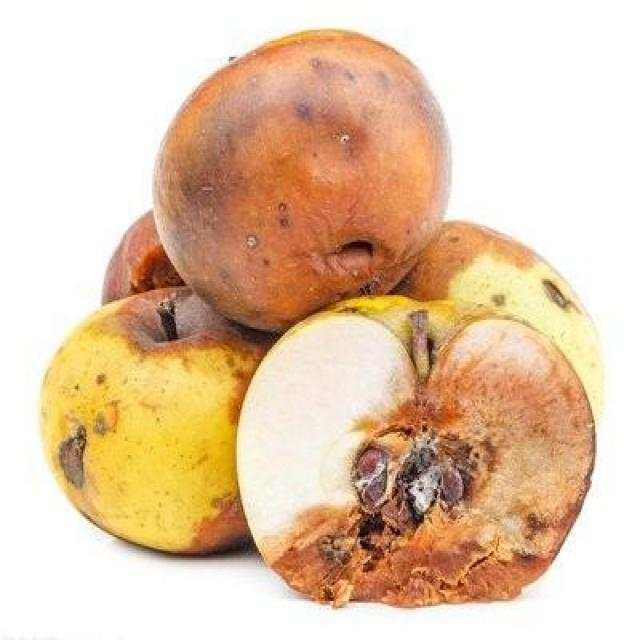organic: (38, 28, 610, 610)
